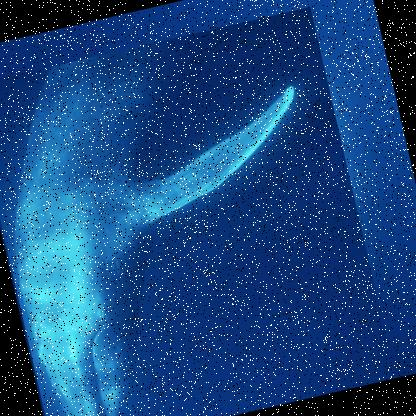blue_whale: (0, 6, 396, 415)
